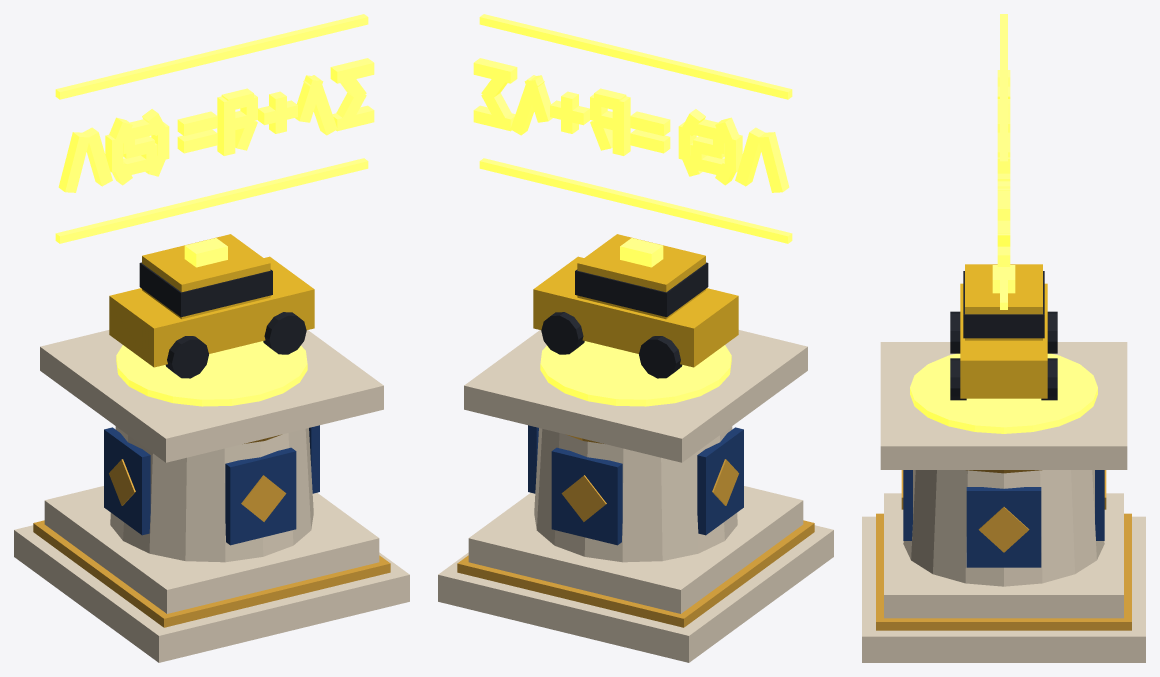
The model's file is statue-bellman.glb.
3 renders of one model, left to right at view 1: azimuth 30°, elevation 25°; view 2: azimuth 150°, elevation 25°; view 3: azimuth 270°, elevation 25°, orthographic. The views are drawn at different scales.
Visible parts, largest first — view 1: Pedestal_Marble.004, Statue_Glow_Equation, Statue_Taxi_Yellow, Pedestal_Blue.004, Pedestal_Gold.004, Statue_Dark_Wheels; view 2: Pedestal_Marble.004, Statue_Glow_Equation, Statue_Taxi_Yellow, Pedestal_Blue.004, Pedestal_Gold.004, Statue_Dark_Wheels; view 3: Pedestal_Marble.004, Statue_Glow_Equation, Statue_Taxi_Yellow, Pedestal_Gold.004, Pedestal_Blue.004, Statue_Dark_Wheels.
Boxes of the visible parts, <box> form: Pedestal_Marble.004: <box>14,330,409,662</box>; Statue_Glow_Equation: <box>55,14,374,406</box>; Statue_Taxi_Yellow: <box>109,234,314,367</box>; Pedestal_Blue.004: <box>104,425,319,545</box>; Pedestal_Gold.004: <box>33,434,390,627</box>; Statue_Dark_Wheels: <box>139,262,306,378</box>; Pedestal_Marble.004: <box>438,330,833,662</box>; Statue_Glow_Equation: <box>473,14,792,406</box>; Statue_Taxi_Yellow: <box>533,234,738,367</box>; Pedestal_Blue.004: <box>528,425,743,545</box>; Pedestal_Gold.004: <box>457,434,814,627</box>; Statue_Dark_Wheels: <box>541,262,708,378</box>; Pedestal_Marble.004: <box>862,342,1145,662</box>; Statue_Glow_Equation: <box>910,14,1097,433</box>; Statue_Taxi_Yellow: <box>960,264,1047,398</box>; Pedestal_Gold.004: <box>876,470,1131,630</box>; Pedestal_Blue.004: <box>903,470,1104,567</box>; Statue_Dark_Wheels: <box>950,271,1057,400</box>.
Size of the model in its own units: 2.18 by 3.51 by 1.75.
